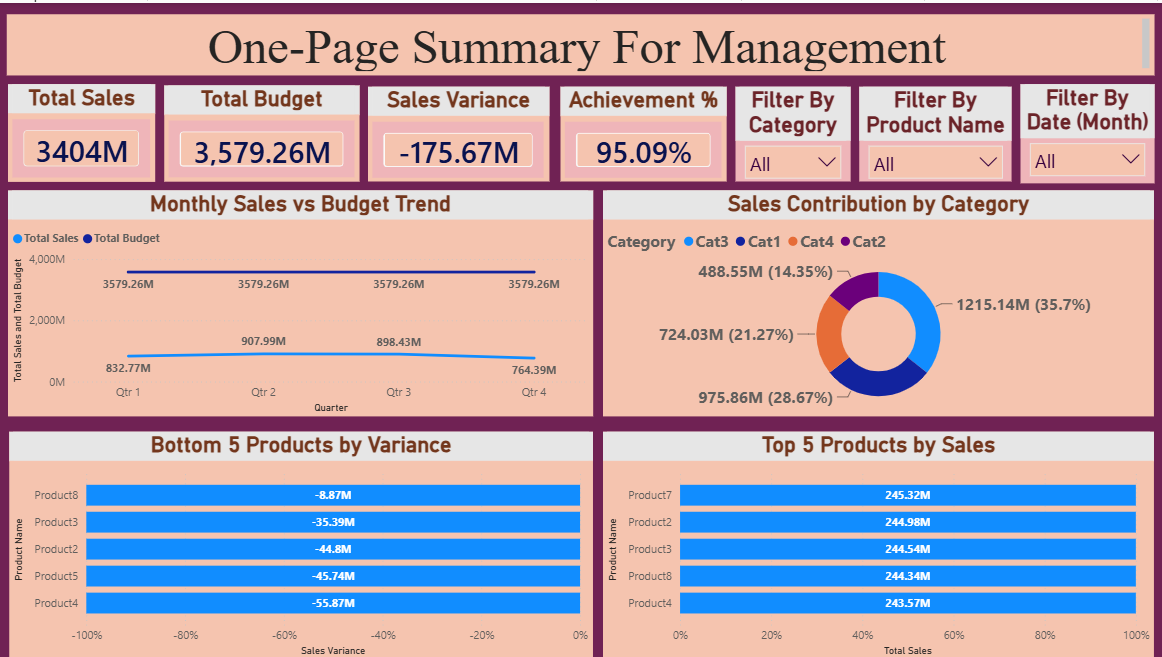

This screenshot's page, from the dashboard's own definition file:
{"tool":"powerbi","page":{"name":"EXECUTIVE DASHBOARD (Overall Performance)","canvas":[1280,720],"ordinal":4},"visuals":[{"type":"textbox","box":[9.6,12.3,1259.7,67.2],"z":0},{"type":"cardVisual","title":"Total Sales","fields":{"Data":["Sales.Total Sales"]},"box":[11,89.2,161.9,107],"z":1000},{"type":"cardVisual","title":"Total Budget","fields":{"Data":["Budget.Total Budget"]},"box":[182.5,90.6,214.1,105.7],"z":2000},{"type":"cardVisual","title":"Sales Variance","fields":{"Data":["Sales.Sales Variance"]},"box":[406.2,91.9,199,104.3],"z":3000},{"type":"cardVisual","title":"Achievement %","fields":{"Data":["Budget.Achievement %"]},"box":[617.5,91.9,182.5,104.3],"z":4000},{"type":"hundredPercentStackedBarChart","title":"Bottom 5 Products by Variance","fields":{"Category":["Product Master.Product Name"],"Y":["Sales.Sales Variance"]},"box":[12.3,470.7,640.8,249.7],"z":5000},{"type":"hundredPercentStackedBarChart","title":"Top 5 Products by Sales","fields":{"Category":["Product Master.Product Name"],"Y":["Sales.Total Sales"]},"box":[664.2,470.7,605.1,249.7],"z":6000},{"type":"lineChart","title":"Monthly Sales vs Budget Trend","fields":{"Category":["Sales.Date.Variation.Date Hierarchy.Quarter","Sales.Date.Variation.Date Hierarchy.Month"],"Y":["Sales.Total Sales","Budget.Total Budget"]},"box":[11,205.8,642.2,248.4],"z":7000},{"type":"donutChart","title":"Sales Contribution by Category","fields":{"Y":["Sales.Total Sales"],"Category":["Product Master.Category"]},"box":[664.2,205.8,605.1,248.4],"z":8000},{"type":"slicer","title":"Filter By Category","fields":{"Values":["Product Master.Category"]},"box":[809.6,91.9,126.2,104.3],"z":9000},{"type":"slicer","title":"Filter By Product Name","fields":{"Values":["Product Master.Product Name"]},"box":[945.5,91.9,167.4,104.3],"z":10000},{"type":"slicer","title":"Filter By Date (Month)","fields":{"Values":["Sales.Date.Variation.Date Hierarchy.Month"]},"box":[1122.5,89.2,146.8,108.4],"z":11000}]}

Visuals, with their boxes in screenshot pixels (x1, y1, x2, y2), scaled from the page's 1280x720 canvas onto the 1162x657 screenshot:
textbox: left=9, top=11, right=1152, bottom=73
"Total Sales" cardVisual: left=10, top=81, right=157, bottom=179
"Total Budget" cardVisual: left=166, top=83, right=360, bottom=179
"Sales Variance" cardVisual: left=369, top=84, right=549, bottom=179
"Achievement %" cardVisual: left=561, top=84, right=726, bottom=179
"Bottom 5 Products by Variance" hundredPercentStackedBarChart: left=11, top=430, right=593, bottom=656
"Top 5 Products by Sales" hundredPercentStackedBarChart: left=603, top=430, right=1152, bottom=656
"Monthly Sales vs Budget Trend" lineChart: left=10, top=188, right=593, bottom=414
"Sales Contribution by Category" donutChart: left=603, top=188, right=1152, bottom=414
"Filter By Category" slicer: left=735, top=84, right=850, bottom=179
"Filter By Product Name" slicer: left=858, top=84, right=1010, bottom=179
"Filter By Date (Month)" slicer: left=1019, top=81, right=1152, bottom=180
